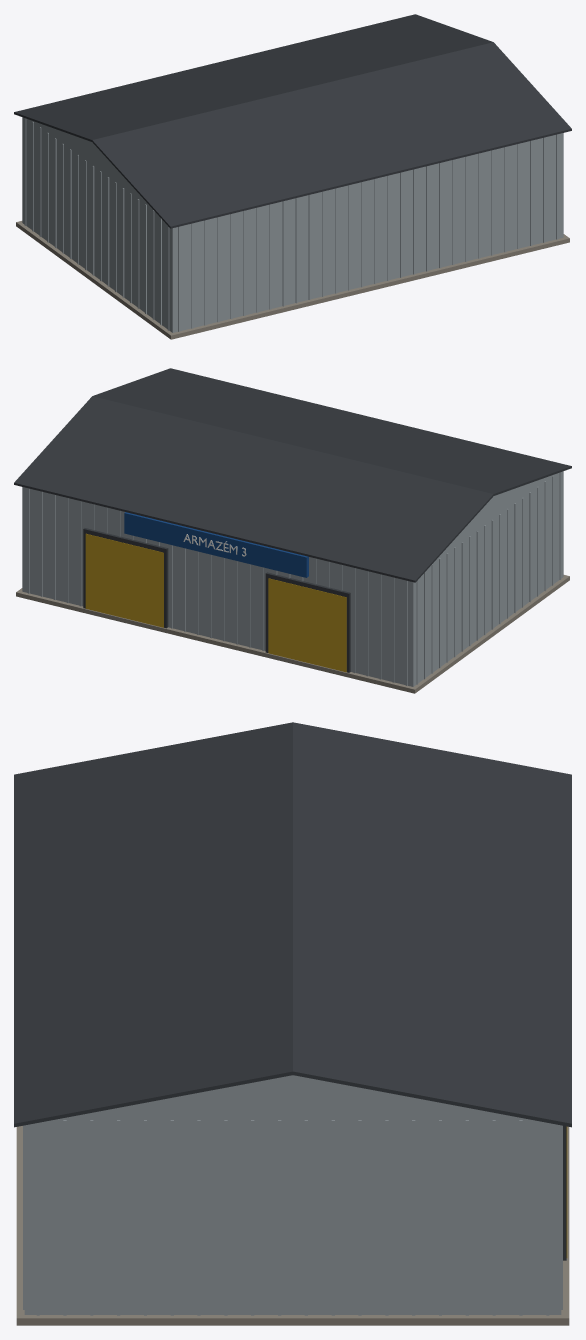
The model's file is galpao_porto.glb.
3 renders of one model, top to bottom at view 1: azimuth 30°, elevation 25°; view 2: azimuth 150°, elevation 25°; view 3: azimuth 270°, elevation 25°, orthographic. The views are drawn at different scales.
Visible parts, largest first — view 1: galpao_porto_corpo; view 2: galpao_porto_corpo; view 3: galpao_porto_corpo.
Boxes of the visible parts, x1,y1,x2,y2 form: galpao_porto_corpo: (14,14,571,339); galpao_porto_corpo: (14,368,571,693); galpao_porto_corpo: (14,722,571,1325).
Bounding box in the file's own units: 30.8 × 10.5 × 20.8.
